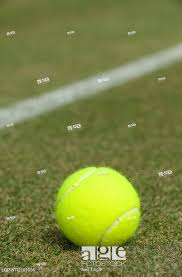tennis_ball: (55, 166, 142, 251)
